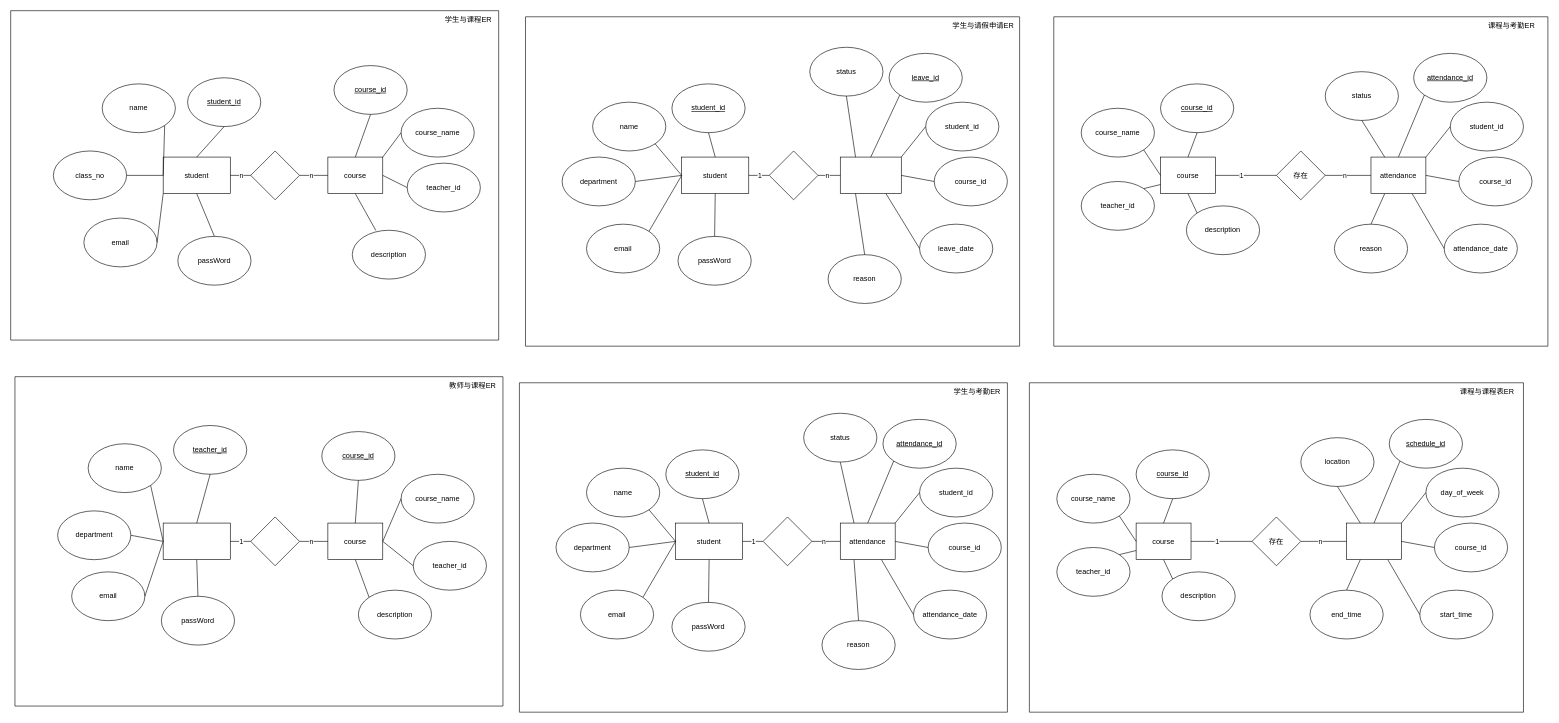
Image size: 1559x723. Some labels were removed from this diagram. The centre of each missing label's shape, as x and y in pixels:
ClassSchedule: [1373,541]
LeaveApplication: [870,175]
teacher: [196,541]
拥有: [787,541]
提交: [793,175]
教授: [275,541]
选修: [275,175]
